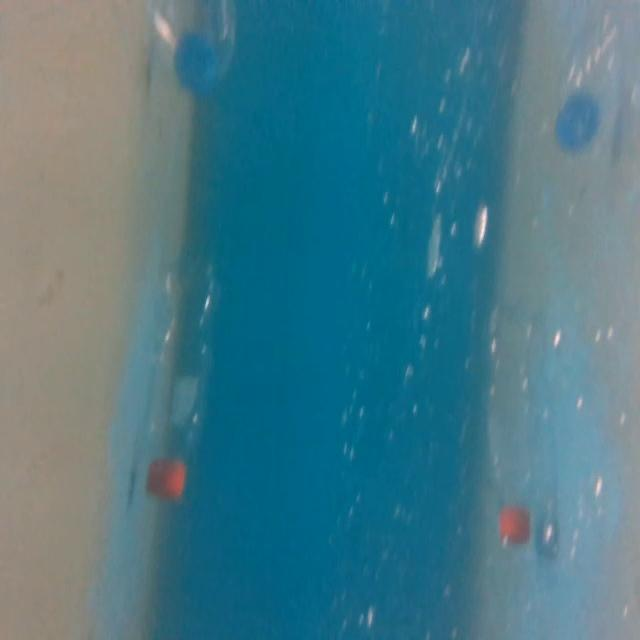plastic bottle: (140, 258, 228, 514), (133, 0, 242, 91)
